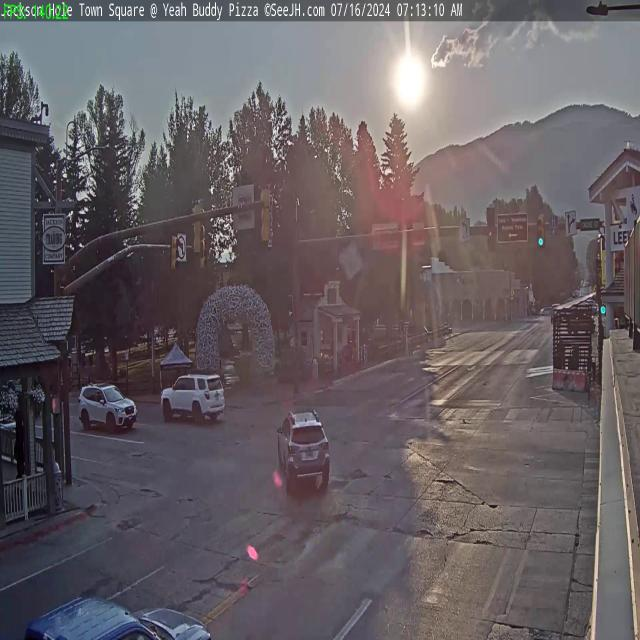suv: (276, 406, 330, 495), (161, 372, 226, 427), (78, 380, 136, 435)
traffic light: (260, 184, 274, 244), (190, 200, 204, 255), (487, 207, 496, 250), (536, 214, 546, 248), (170, 234, 178, 271)
